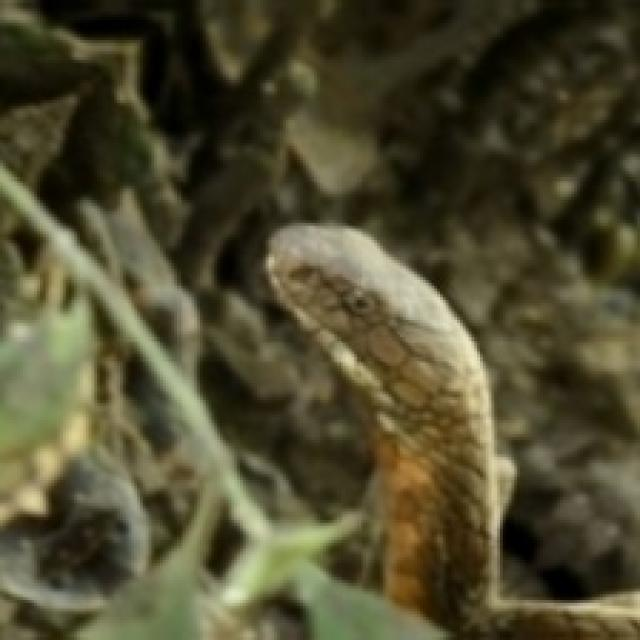king cobra: (266, 226, 637, 637)
